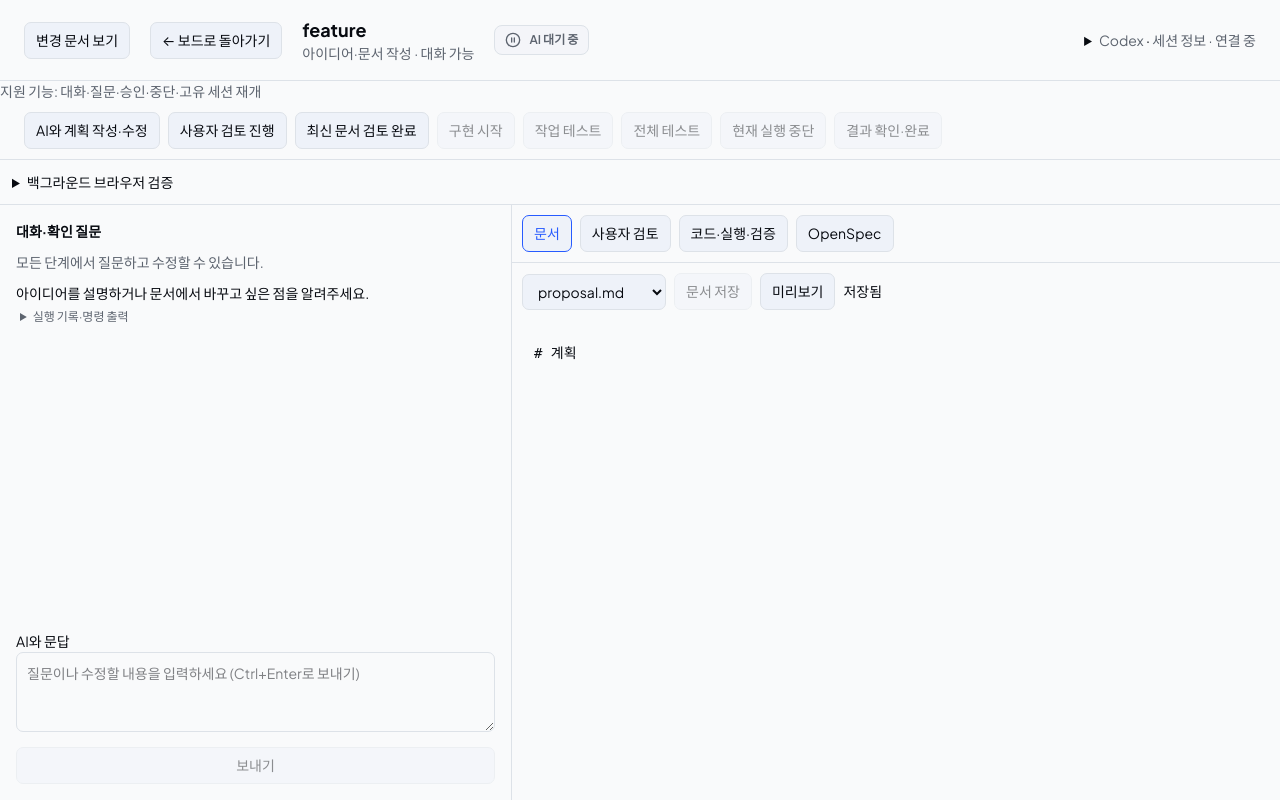
it: 문서 목록에서 verification.md를 선택해 검증 기록 원문과 미리보기를 연다
Select "verification.md" in the dropdown named "문서 선택". click: [594, 292]
box: [522, 274, 666, 310]
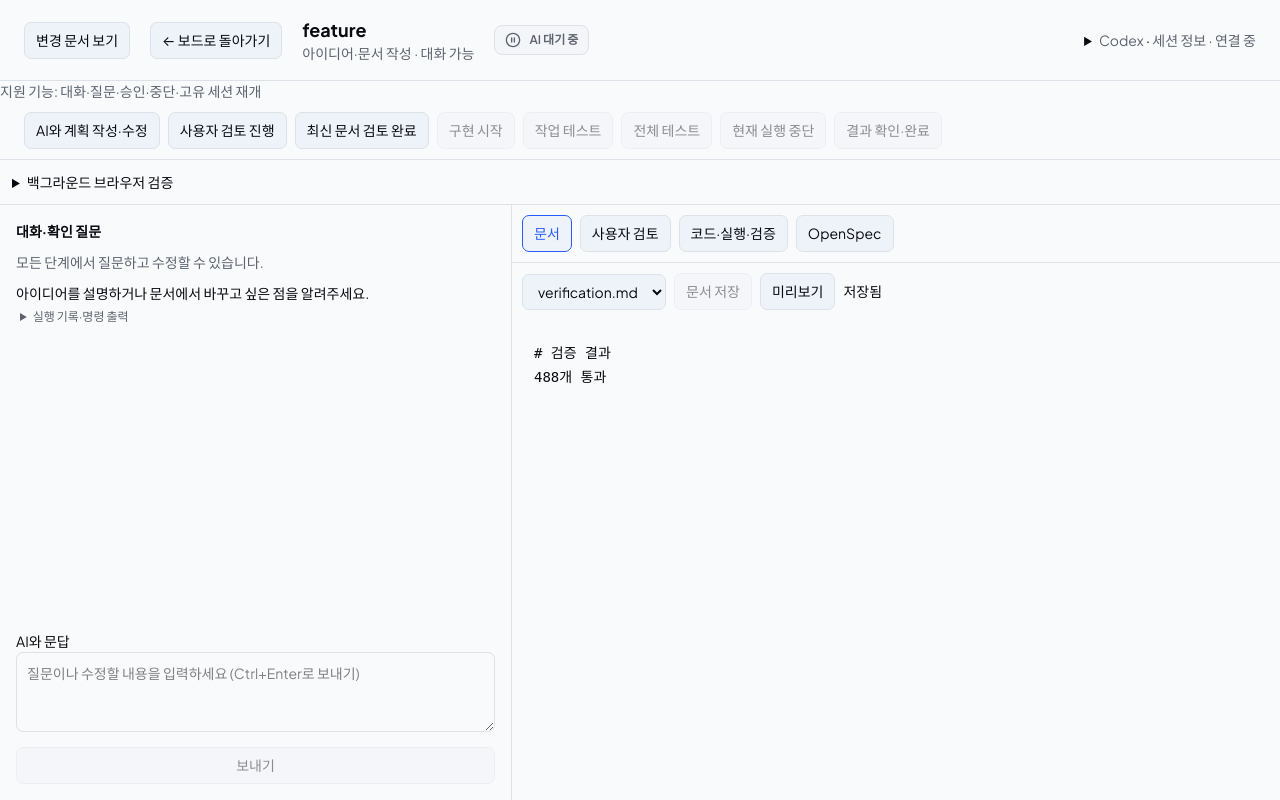
Click the button "미리보기". click: [798, 292]
box: [760, 273, 835, 310]
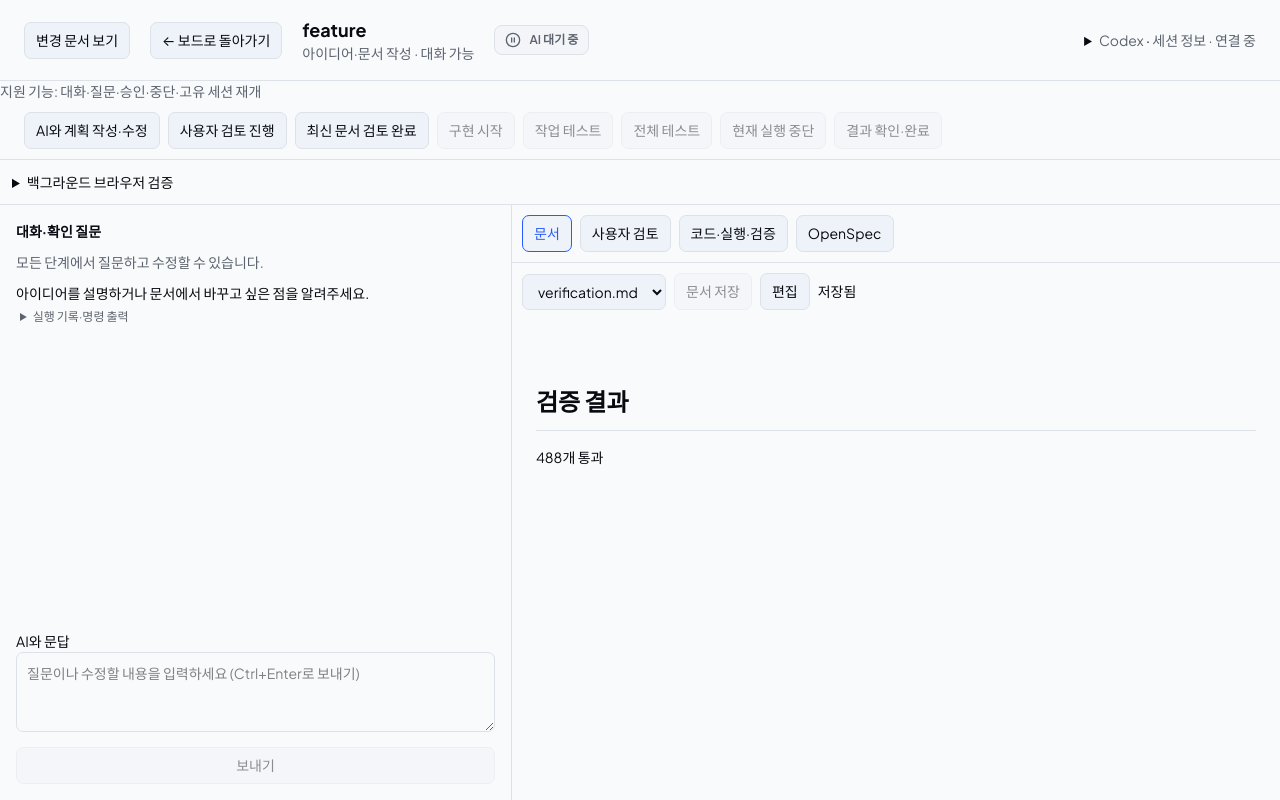
Expected: the heading "검증 결과" is shown, [536, 380, 1256, 431]
